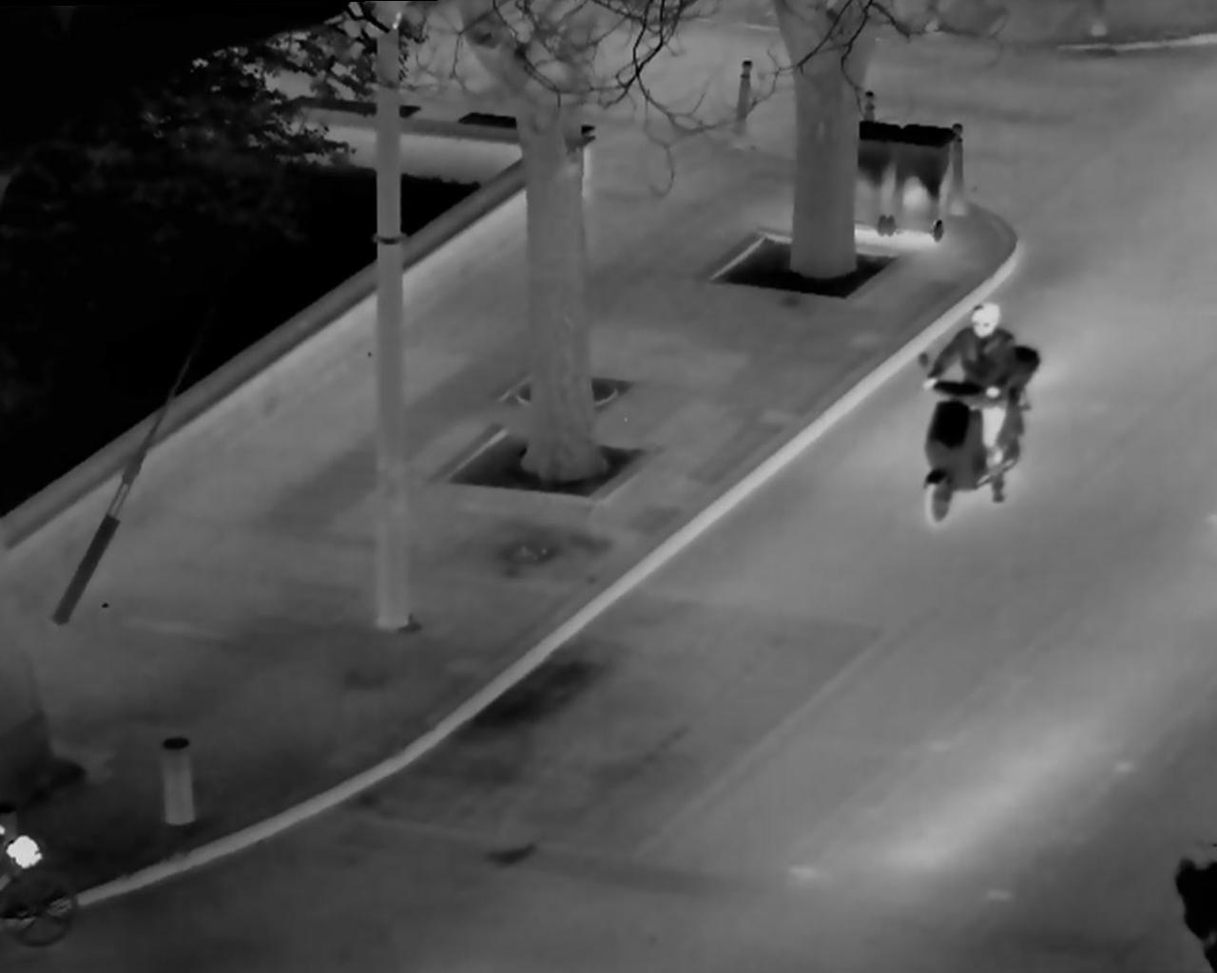person: (911, 282, 1028, 520)
